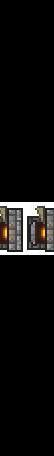furnace: (25, 202, 54, 252), (0, 204, 24, 252)
